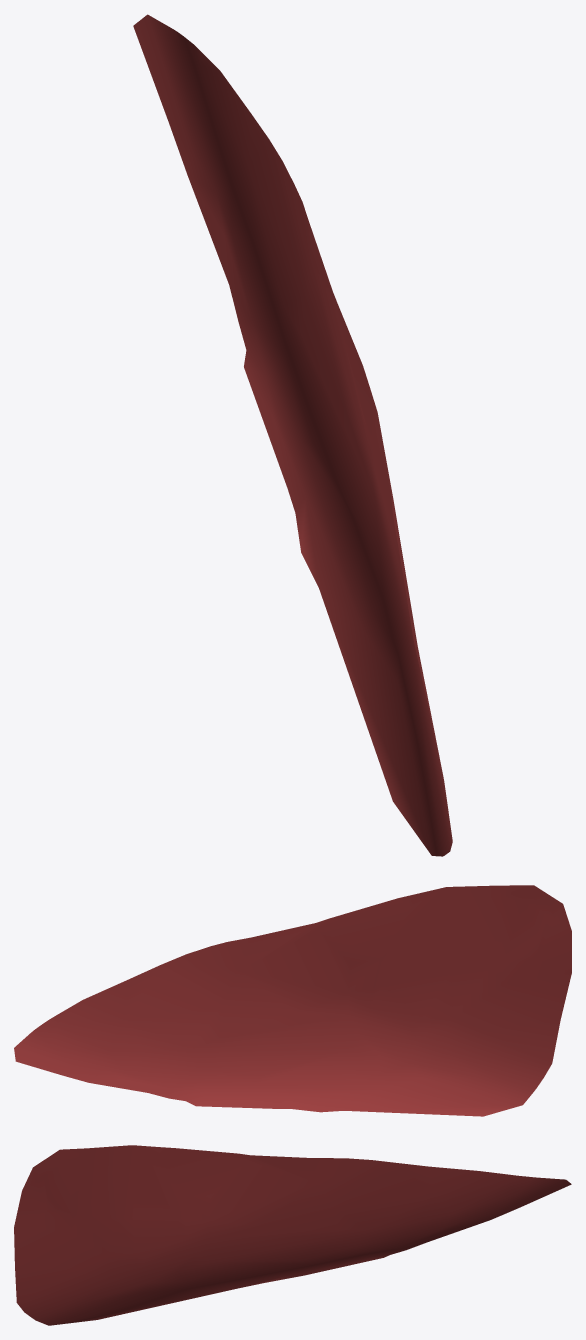
File: external-abdominal-oblique-muscle-o1l.glb
The picture shows the model from 3 angles, top to bottom: view 1: azimuth 30°, elevation 25°; view 2: azimuth 150°, elevation 25°; view 3: azimuth 270°, elevation 25°; orthographic projection. The views are drawn at different scales.
Parts seen in each view (by area): view 1: External abdominal oblique muscle.o1l; view 2: External abdominal oblique muscle.o1l; view 3: External abdominal oblique muscle.o1l.
Part boxes in pixels (<box>): External abdominal oblique muscle.o1l: <box>133,14,452,856</box>; External abdominal oblique muscle.o1l: <box>14,885,571,1116</box>; External abdominal oblique muscle.o1l: <box>14,1145,571,1325</box>.
Size of the model in its own units: 0.00788 by 0.0113 by 0.0273.
